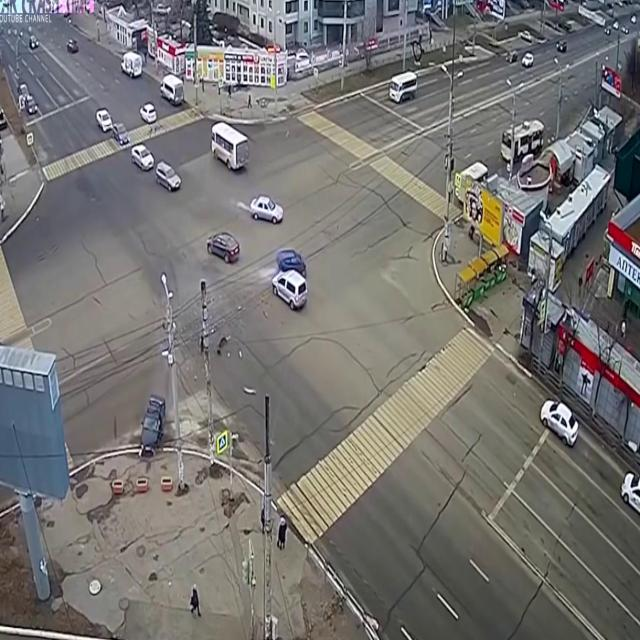accident: (266, 237, 316, 319), (134, 376, 170, 480)
non_accident: (93, 95, 185, 199)
